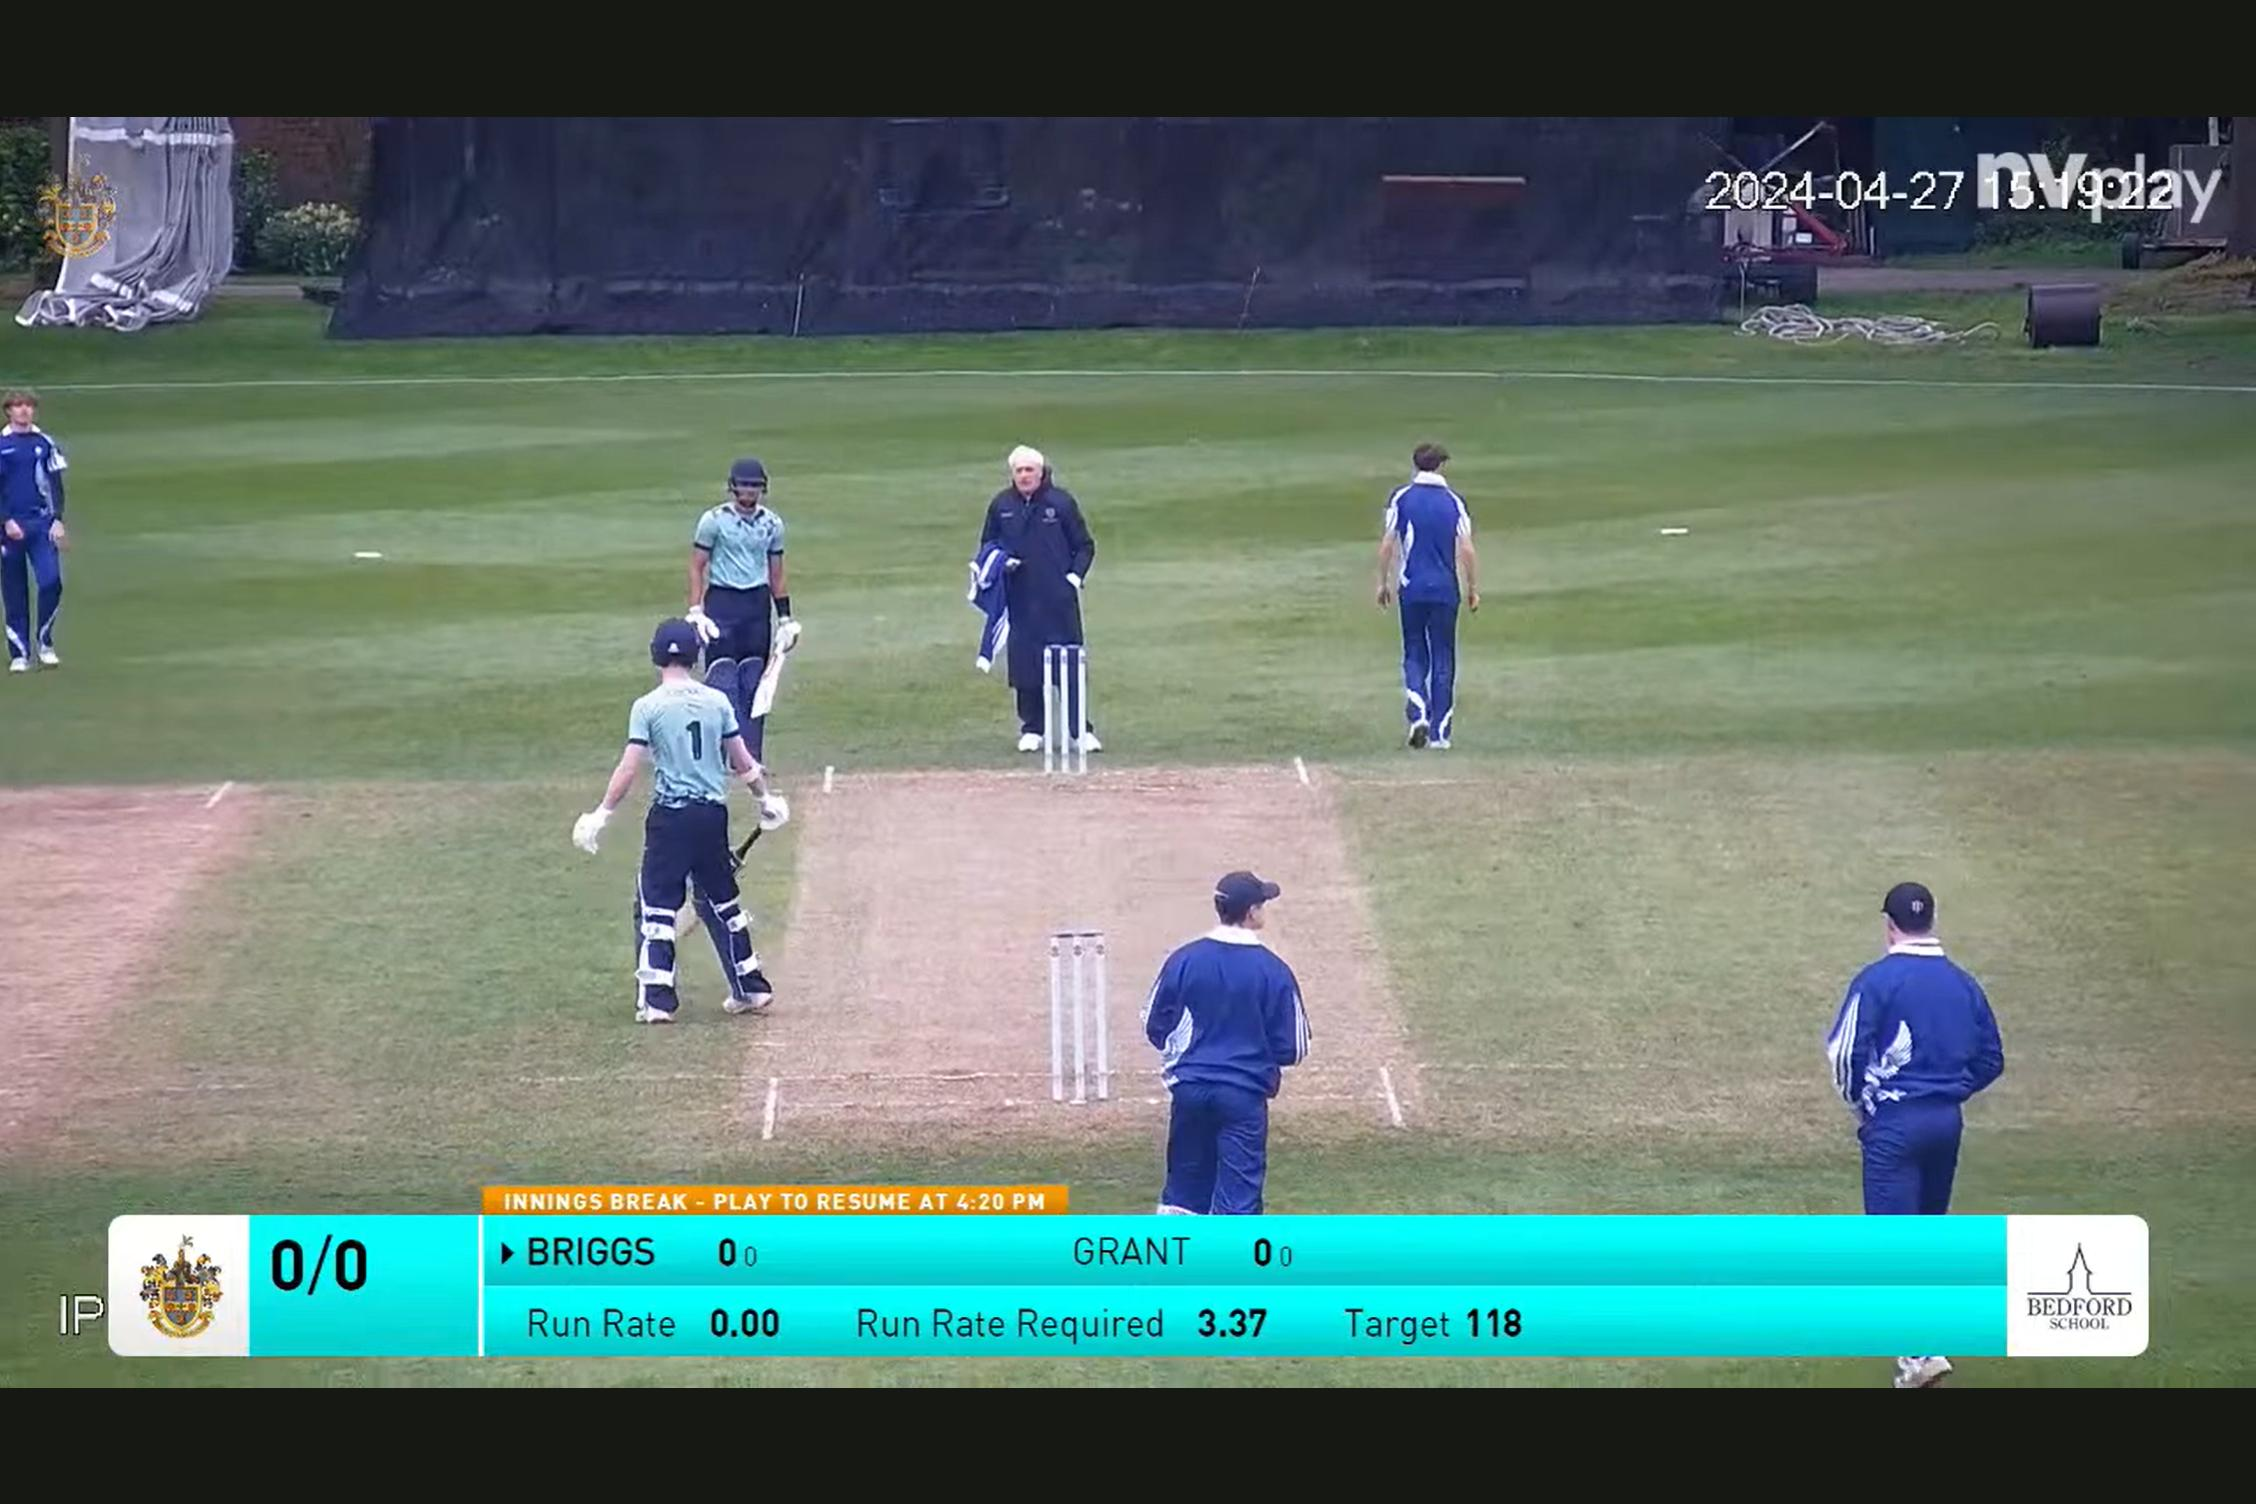batsman: (571, 613, 791, 1029)
bowler walking back: (1371, 428, 1507, 759)
umpire: (963, 428, 1125, 730)
wicket keeper: (1115, 846, 1371, 1197)
